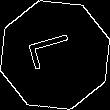L_E: (26, 33, 84, 77)
